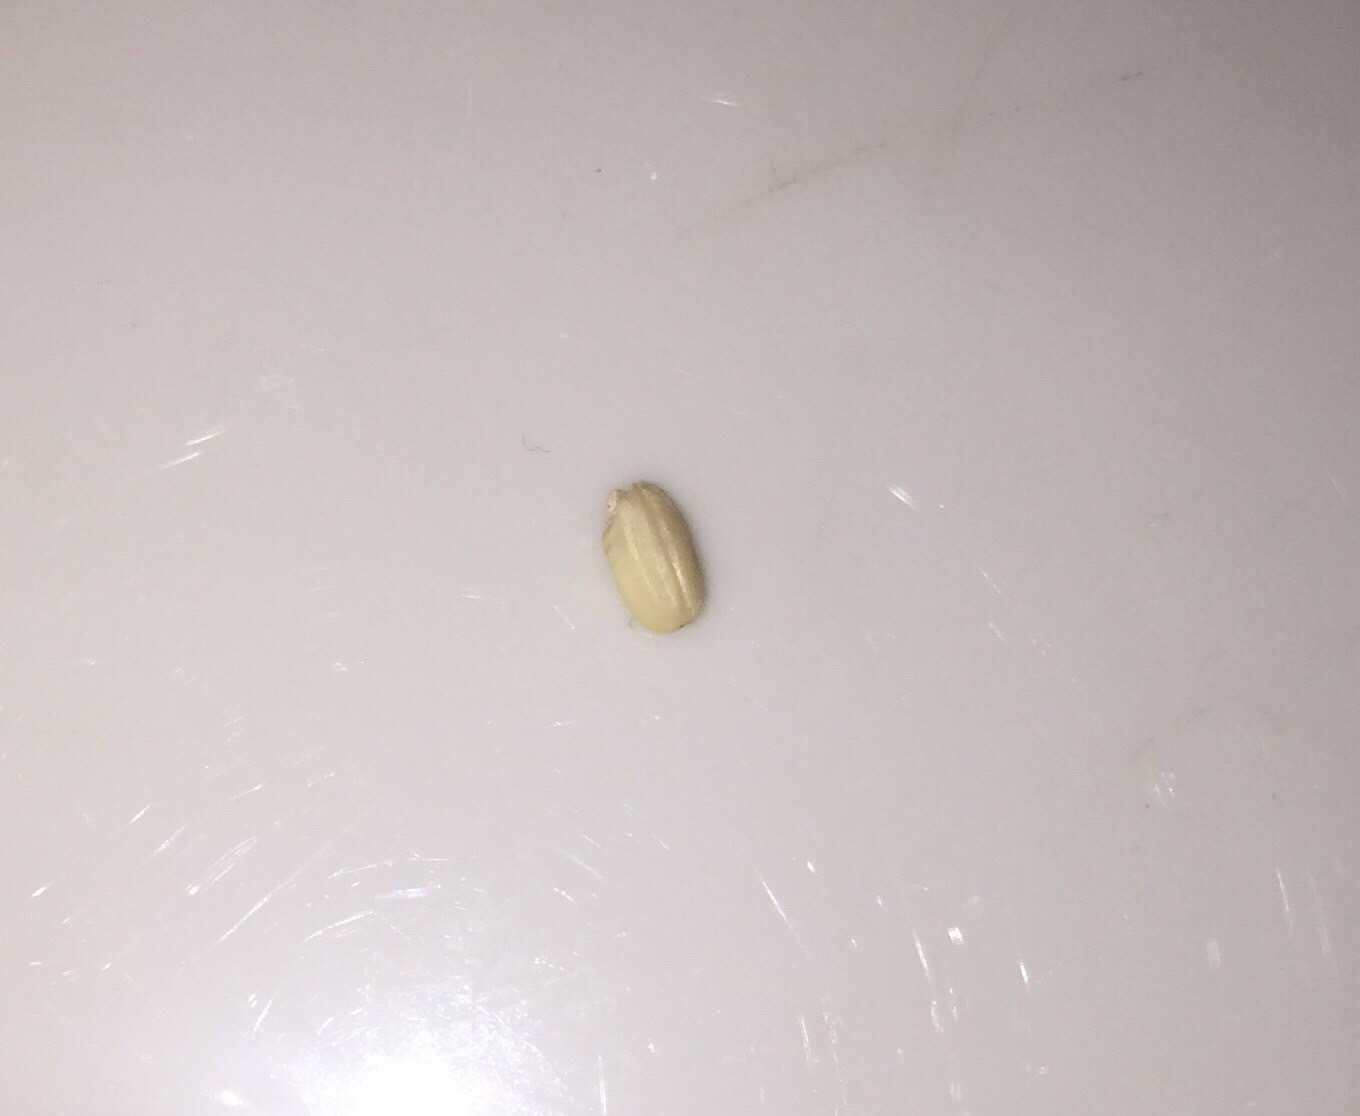Gao Lut Bac: (589, 457, 718, 664)
